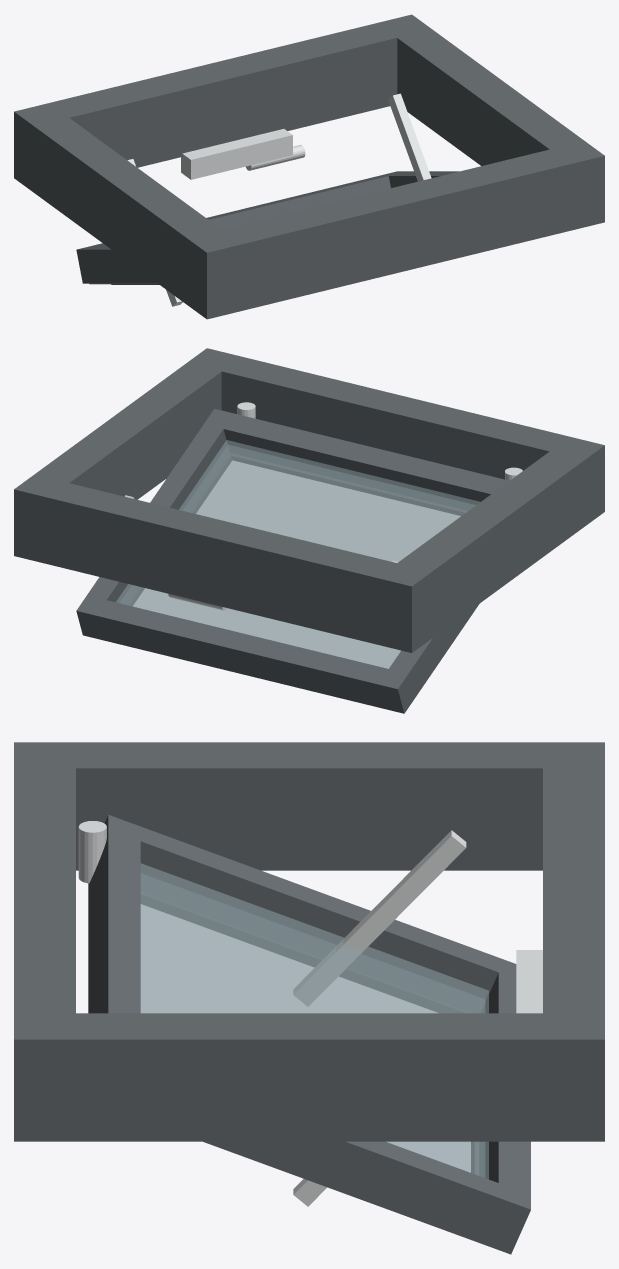
File: awning-window.glb
3 views of the same model, one above another, from view 1: azimuth 30°, elevation 25°; view 2: azimuth 150°, elevation 25°; view 3: azimuth 270°, elevation 25° (orthographic). The views are drawn at different scales.
Parts seen in each view (by area): view 1: outer-top, outer-bottom, outer-left, outer-right, awn-sash-bottom, operator-base, awn-sash-left, arm-0.42, awn-sash-right, operator-handle; view 2: outer-bottom, awn-glass, outer-top, outer-left, awn-sash-bottom, outer-right, awn-sash-top, awn-sash-right, awn-sash-left, awn-sash-gasket-top, awn-sash-gasket-right; view 3: outer-right, outer-left, awn-glass, outer-top, outer-bottom, awn-sash-left, awn-sash-right, awn-sash-top, awn-sash-bottom, arm--0.42, awn-sash-gasket-left, operator-base (+1 smaller).
Part boxes in pixels (box(x1,y1,x2,y2)): outer-top: box(186, 141, 604, 319); outer-bottom: box(14, 14, 431, 192); outer-left: box(34, 118, 221, 304); outer-right: box(397, 29, 584, 165); awn-sash-bottom: box(76, 171, 406, 283); operator-base: box(181, 129, 292, 179); awn-sash-left: box(87, 245, 157, 283); arm-0.42: box(388, 93, 431, 181); awn-sash-right: box(388, 171, 459, 187); operator-handle: box(246, 145, 305, 170); outer-bottom: box(14, 474, 432, 652); awn-glass: box(116, 440, 480, 668); outer-top: box(187, 348, 604, 526); outer-left: box(397, 451, 584, 637); awn-sash-bottom: box(76, 595, 414, 713); outer-right: box(34, 363, 221, 499); awn-sash-top: box(204, 408, 509, 510); awn-sash-right: box(87, 424, 229, 604); awn-sash-left: box(389, 604, 478, 697); awn-sash-gasket-top: box(229, 453, 467, 515); awn-sash-gasket-right: box(126, 455, 231, 605); outer-right: box(76, 1013, 542, 1141); outer-left: box(76, 742, 542, 870); awn-glass: box(140, 863, 488, 1179); outer-top: box(14, 742, 75, 1141); outer-bottom: box(543, 742, 604, 1141); awn-sash-left: box(140, 826, 498, 1012); awn-sash-right: box(203, 1141, 498, 1242); awn-sash-top: box(88, 815, 140, 1013); awn-sash-bottom: box(479, 958, 530, 1254); arm--0.42: box(293, 830, 466, 1006); awn-sash-gasket-left: box(141, 892, 469, 1012); operator-base: box(516, 950, 542, 1013).
Bounding box in the file's own units: 1.25 × 0.4775 × 1.05.
